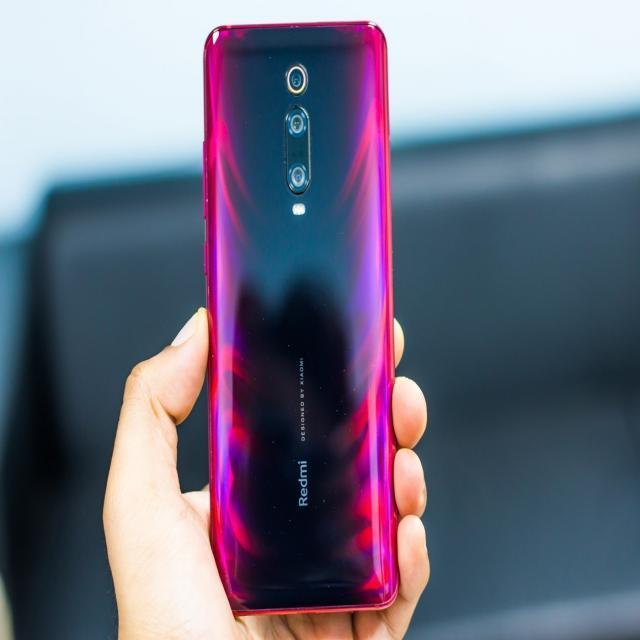Phone: (200, 18, 404, 616)
